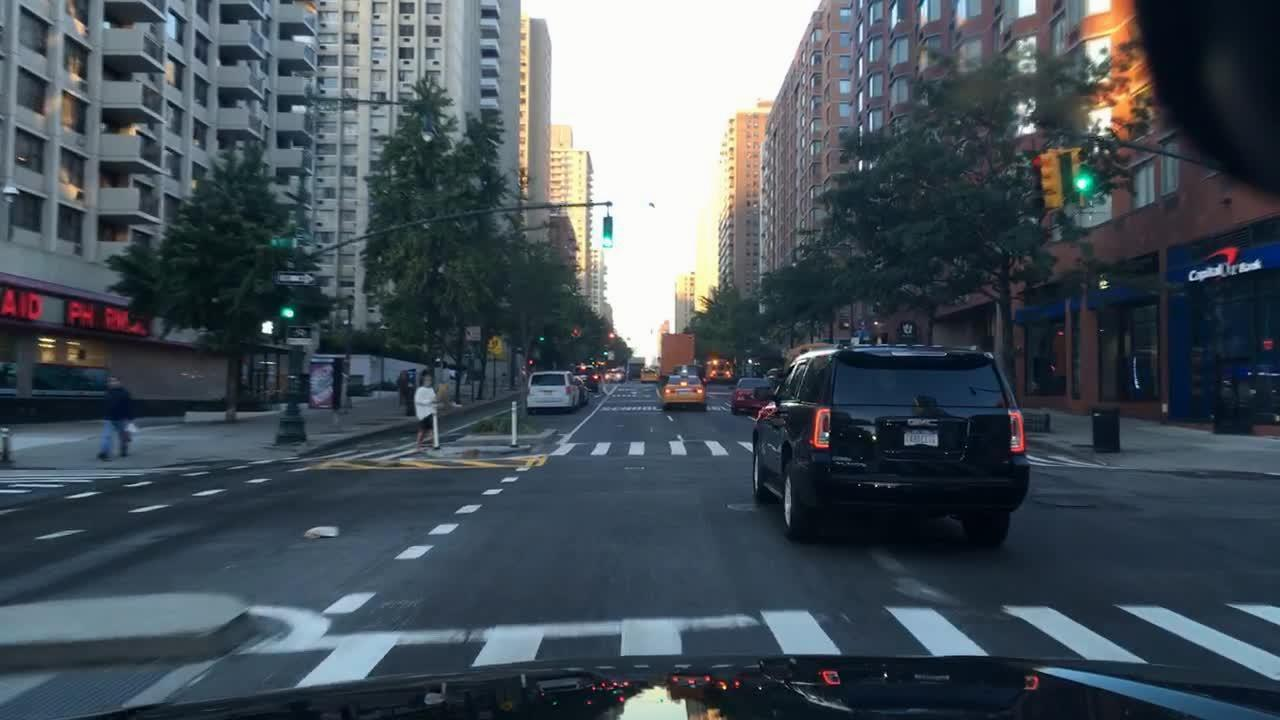GMC: (905, 415, 944, 430)
